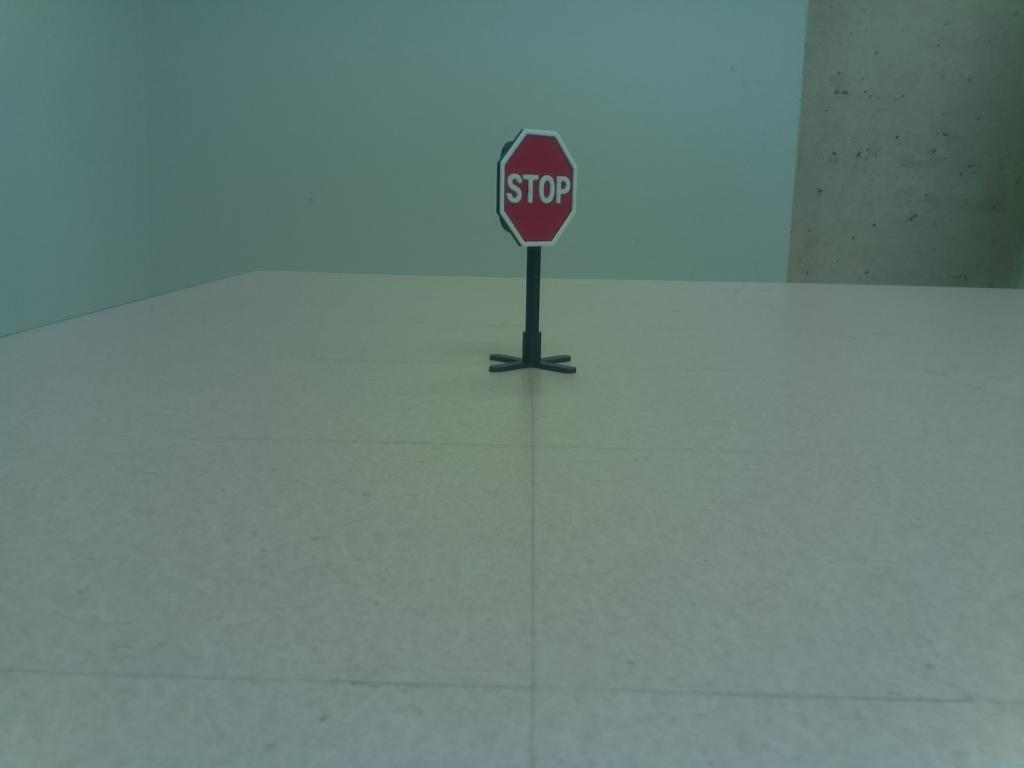sign_stop: (491, 127, 583, 248)
